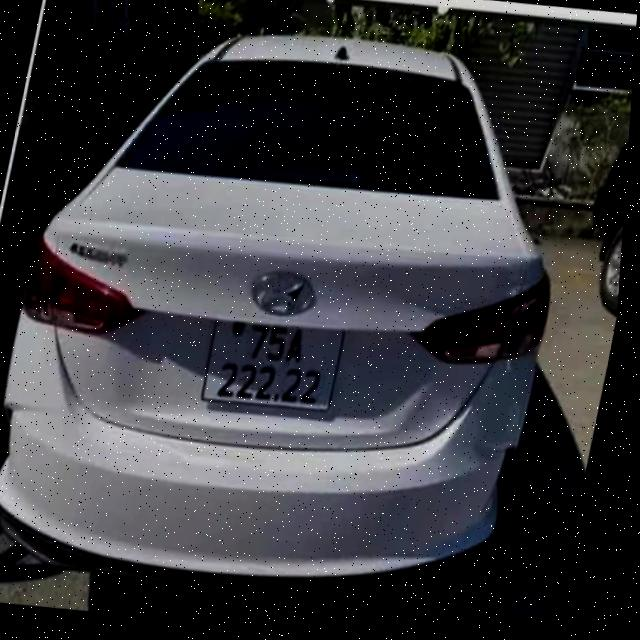car: (0, 0, 613, 630)
plate: (178, 303, 359, 430)
